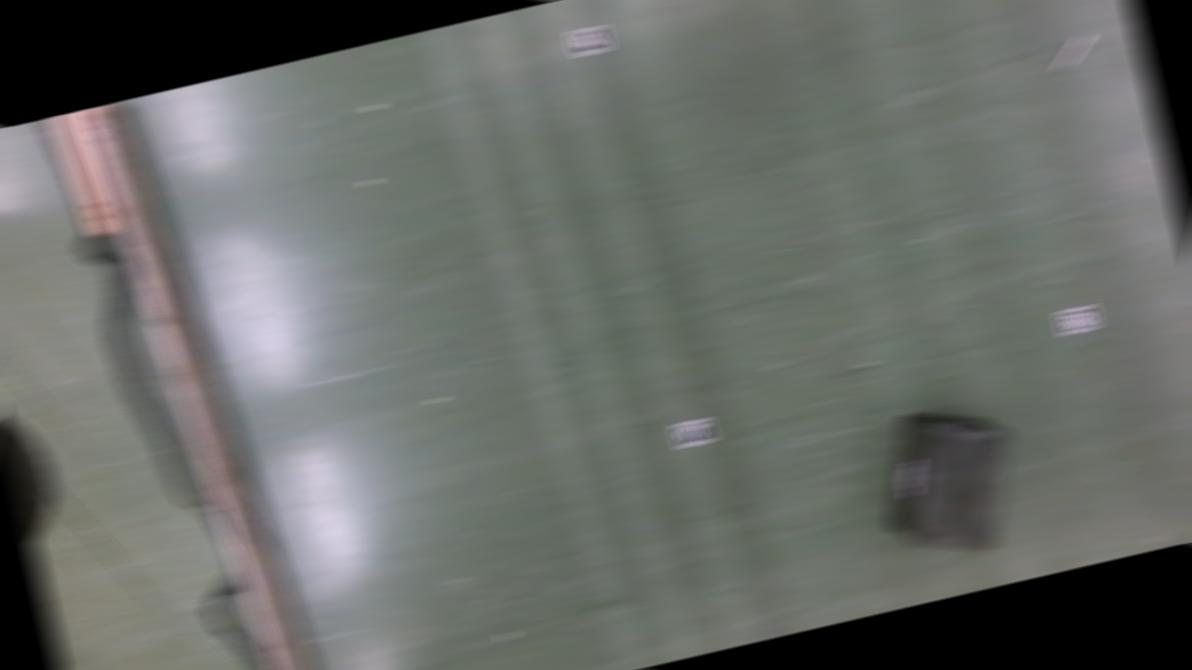probes: (1048, 34, 1097, 72)
rako: (864, 392, 1036, 570)
